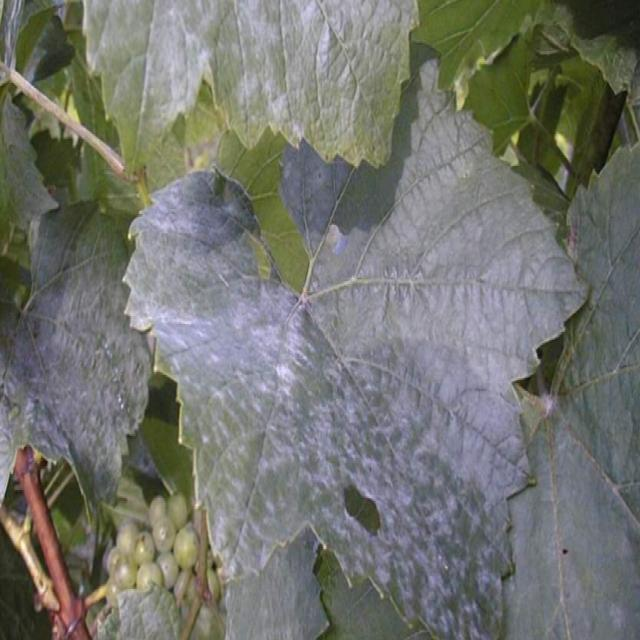powdery_mildew: (126, 59, 581, 637)
